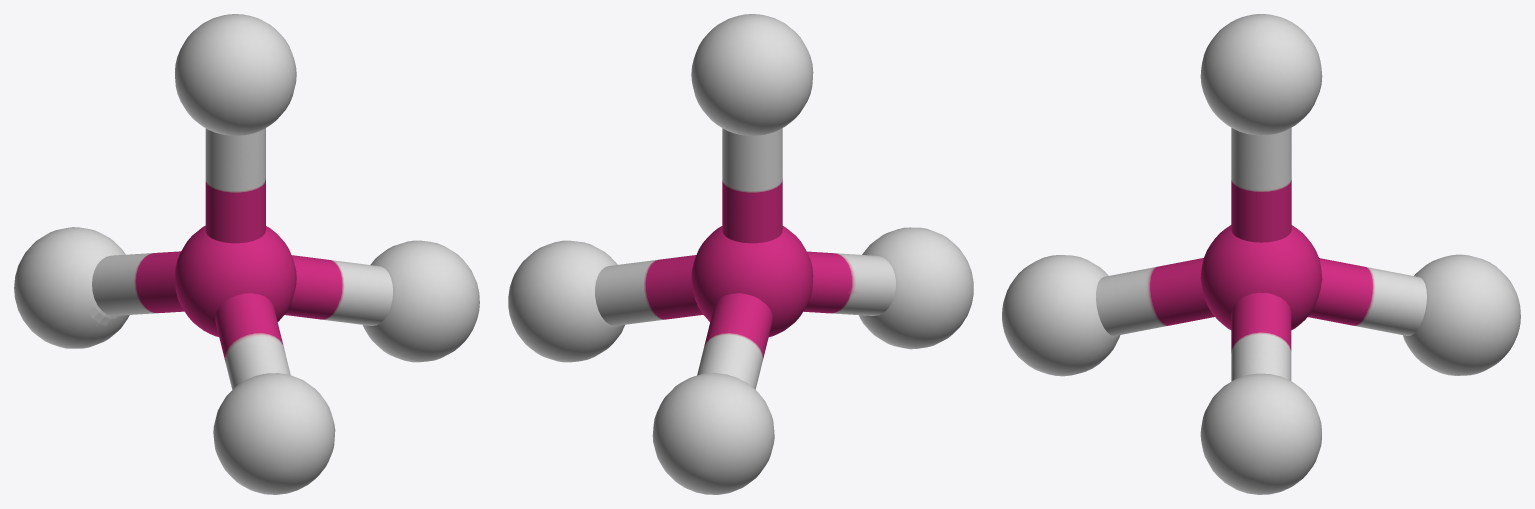
The picture shows the model from 3 angles, left to right: view 1: azimuth 30°, elevation 25°; view 2: azimuth 150°, elevation 25°; view 3: azimuth 270°, elevation 25°; orthographic projection.
Visible parts, largest first — view 1: TetrahedralBond; view 2: TetrahedralBond; view 3: TetrahedralBond.
Part boxes in pixels (x1=…): TetrahedralBond: x1=14, y1=14, x2=479, y2=494; TetrahedralBond: x1=508, y1=14, x2=973, y2=494; TetrahedralBond: x1=1002, y1=14, x2=1520, y2=494.
Bounding box in the file's own units: 67.68 × 70.55 × 87.19.
Materials: 1 (1 with a texture image).
